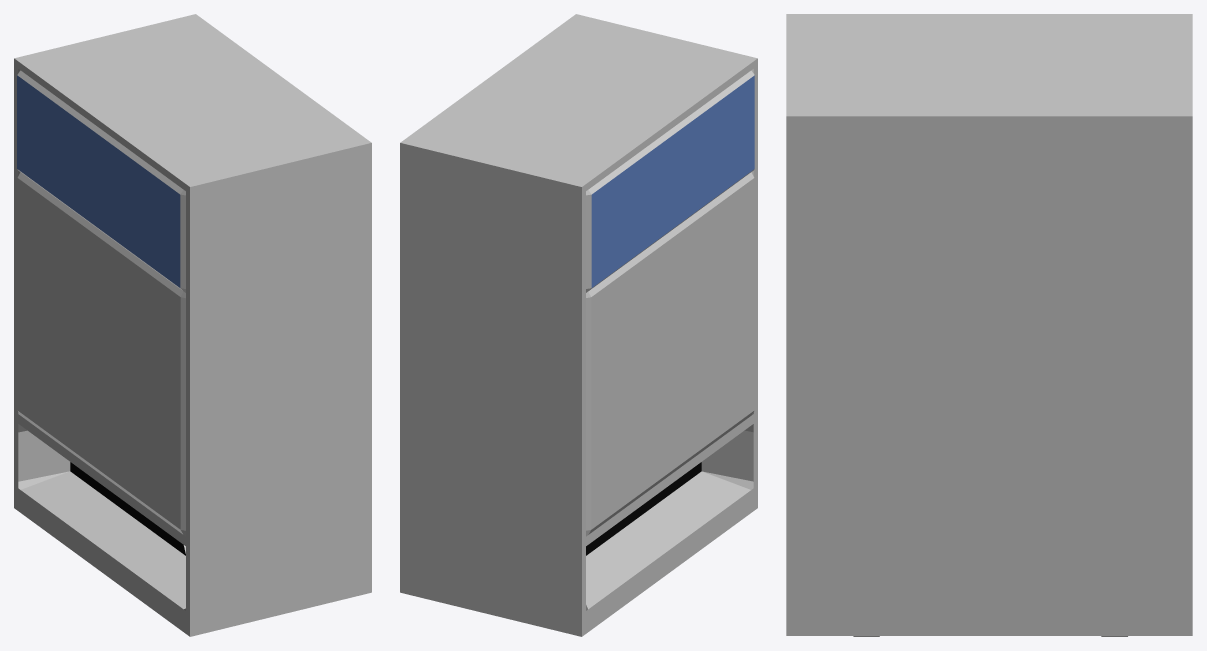
Rendered from lemaripenyimpanan.fbx.
The picture shows the model from 3 angles, left to right: view 1: azimuth 30°, elevation 25°; view 2: azimuth 150°, elevation 25°; view 3: azimuth 270°, elevation 25°; orthographic projection. The views are drawn at different scales.
Parts seen in each view (by area): view 1: Lantai.003; view 2: Lantai.003; view 3: Lantai.003.
Part boxes in pixels (bbox=[...]): Lantai.003: bbox=[14, 14, 371, 636]; Lantai.003: bbox=[400, 14, 757, 636]; Lantai.003: bbox=[786, 14, 1192, 636].
Bounding box in the file's own units: 43.72 × 104 × 71.98.
